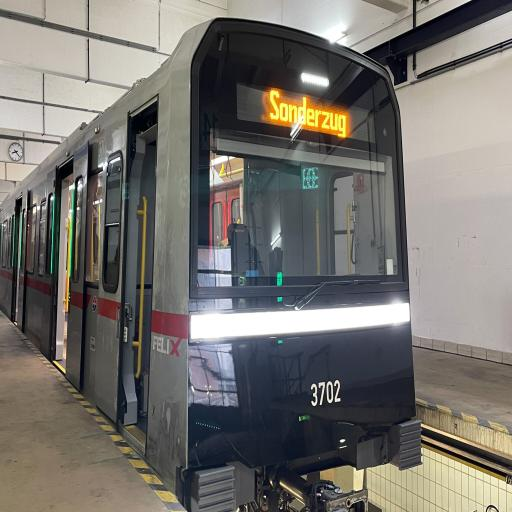X-Wagen: (0, 24, 426, 482)
